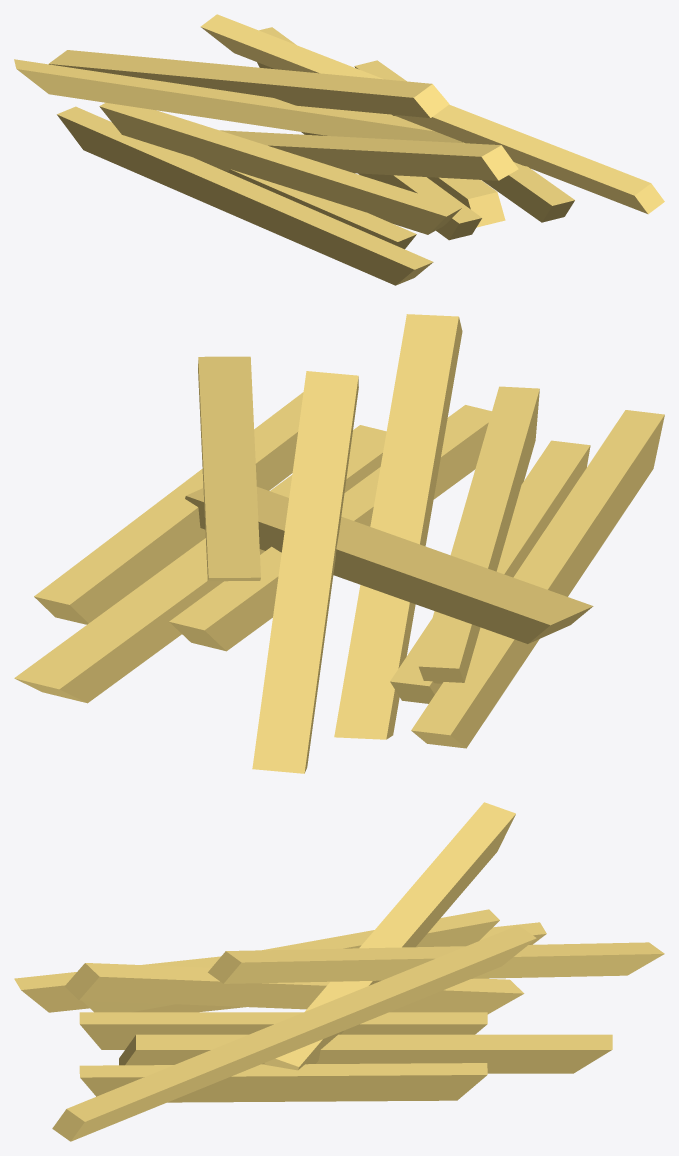
The model's file is NC_Fries_04_DF.fbx.
3 views of the same model, one above another, from view 1: azimuth 30°, elevation 25°; view 2: azimuth 150°, elevation 25°; view 3: azimuth 270°, elevation 25° (orthographic). The views are drawn at different scales.
Visible parts, largest first — view 1: Fry9, Fry7, Fry4, Fry2, Fry1, Fry6, Fry3, Fry8, Fry5, Fry10; view 2: Fry1, Fry6, Fry9, Fry4, Fry10, Fry3, Fry2, Fry7, Fry5, Fry8; view 3: Fry2, Fry10, Fry1, Fry3, Fry6, Fry4, Fry5, Fry7, Fry9, Fry8.
Part boxes in pixels (x1,y1,x2,y2): Fry9: (57, 106, 433, 285); Fry7: (99, 102, 461, 234); Fry4: (14, 59, 462, 142); Fry2: (200, 14, 664, 214); Fry1: (49, 50, 449, 118); Fry6: (220, 130, 518, 180); Fry3: (354, 60, 574, 222); Fry8: (220, 169, 416, 249); Fry5: (301, 132, 481, 240); Fry10: (257, 27, 505, 227); Fry1: (252, 371, 358, 773); Fry6: (334, 314, 462, 739); Fry9: (411, 410, 664, 748); Fry4: (185, 486, 593, 643); Fry10: (14, 425, 386, 703); Fry3: (34, 392, 303, 624); Fry2: (198, 356, 260, 581); Fry7: (418, 386, 539, 683); Fry5: (169, 405, 491, 651); Fry8: (390, 440, 590, 703); Fry2: (52, 925, 536, 1141); Fry10: (119, 1034, 612, 1073); Fry1: (208, 942, 664, 983); Fry3: (79, 1063, 487, 1102); Fry6: (64, 963, 524, 1014); Fry4: (264, 802, 515, 1070); Fry5: (79, 1012, 487, 1049); Fry7: (82, 909, 499, 1012); Fry9: (14, 922, 546, 1012); Fry8: (132, 1004, 245, 1012).
Bounding box in the file's own units: 0.1575 × 0.0407 × 0.1854.
